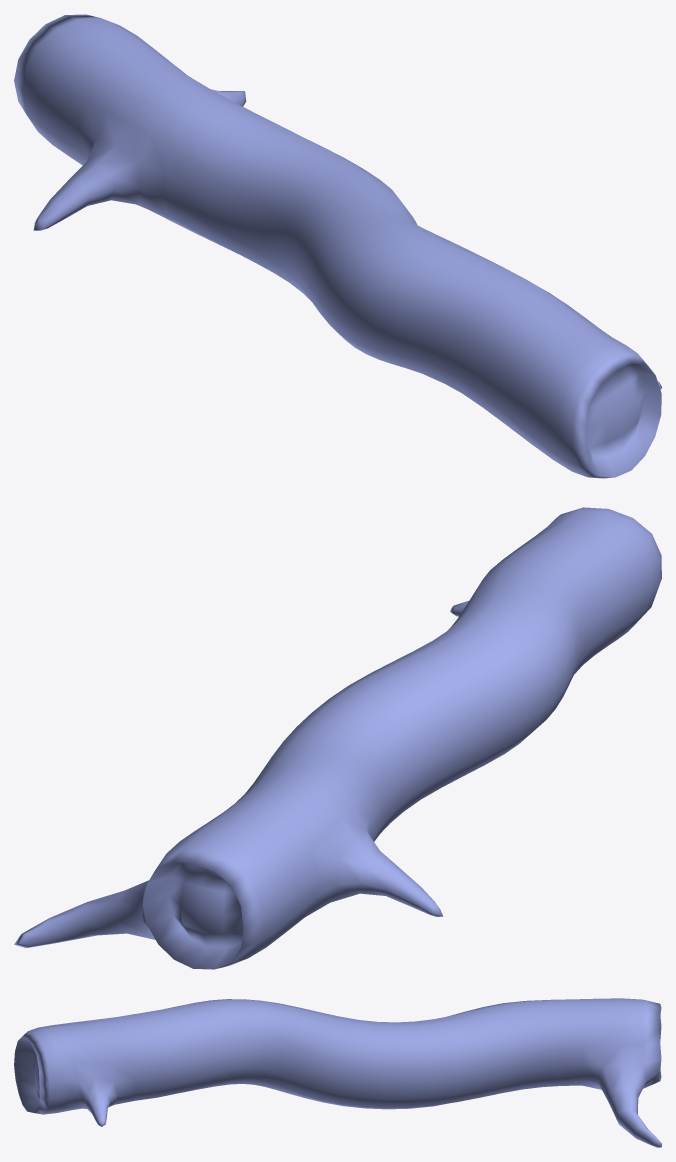
Rendered from log_long.fbx.
3 views of the same model, one above another, from view 1: azimuth 30°, elevation 25°; view 2: azimuth 150°, elevation 25°; view 3: azimuth 270°, elevation 25° (orthographic). The views are drawn at different scales.
Parts seen in each view (by area): view 1: pCube1; view 2: pCube1; view 3: pCube1.
Boxes of the visible parts, x1,y1,x2,y2 form: pCube1: (14, 14, 661, 478); pCube1: (14, 507, 661, 969); pCube1: (14, 998, 661, 1147).
Bounding box in the file's own units: 2.61 × 1.12 × 6.94.
